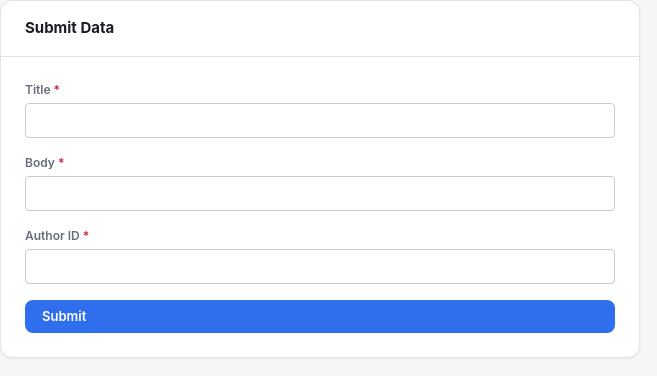
Test case: OutboundFormUser › shows the honest collapsed network/CORS message on a network failure
Type "My Post" into the field labelled "Title *".
click(320, 120); type("My Post")  # box [25,102,615,138]
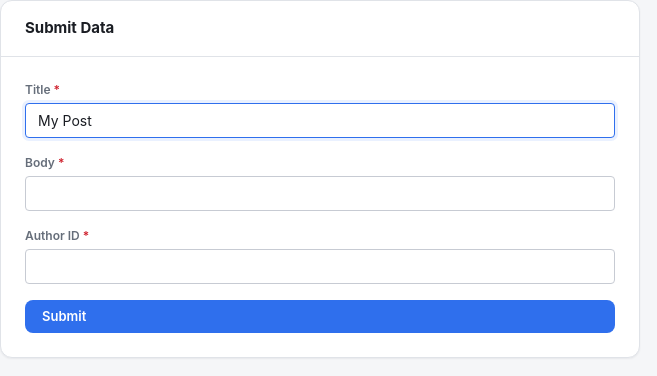
Type "Post body text" into the field labelled "Body *".
click(320, 193); type("Post body text")  # box [25,176,615,210]
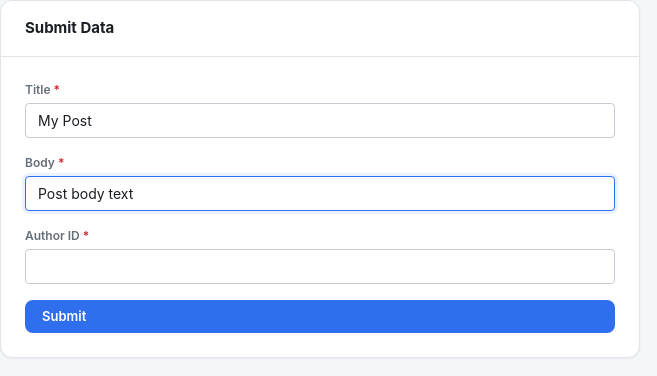
Type "7" into the number field labelled "Author ID *".
click(320, 266); type("7")  # box [25,248,615,284]
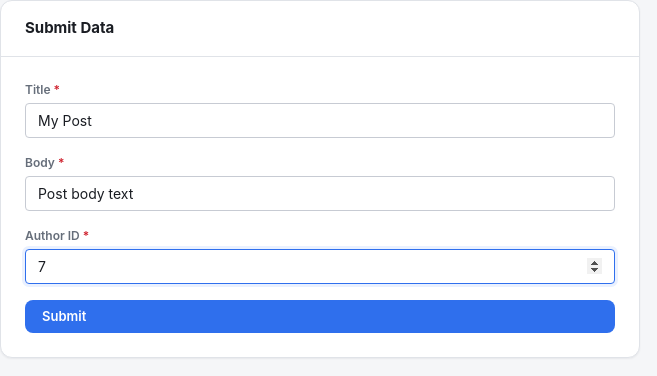
Click the button "Submit".
click(64, 316)  # box [25,300,615,333]
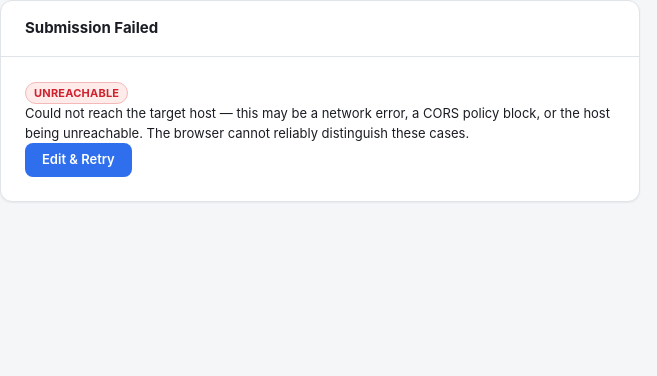
Expected: the text "Unreachable" is shown, [25,82,128,104]
Expected: the text "network error, a CORS policy block" is shown, [25,105,610,140]
